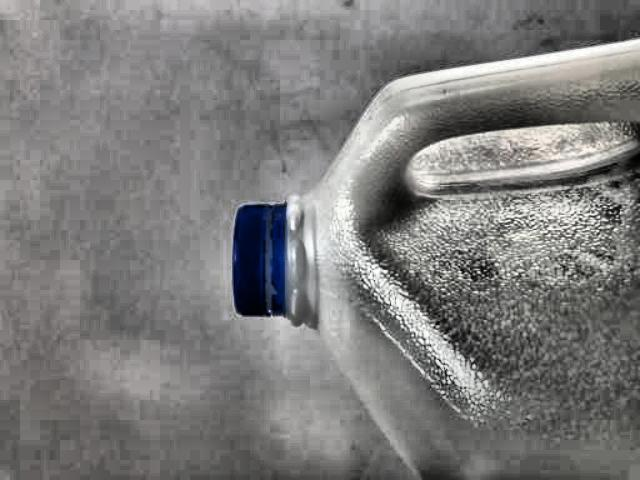Plastic: (230, 22, 640, 480)
